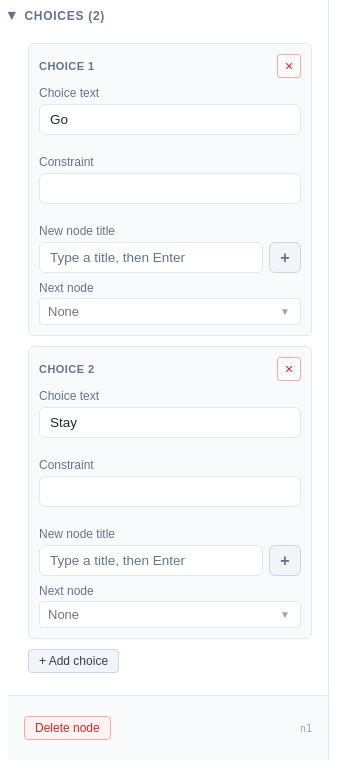
CompanionPanel — NodeComboField (next node) › New node title box › Enter creates a node with the typed title and links that choice to it
This screenshot has width=346, height=768.
(page scrolled)
Type "The Old Mill" into the 2nd field labelled "New node title" at coordinates (151, 560), box [39,545,263,576]
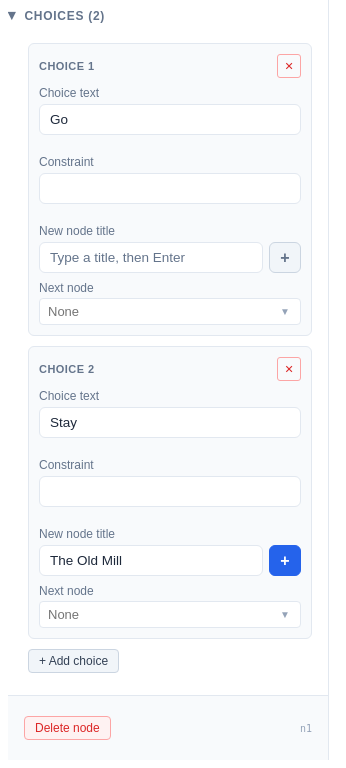
Press Enter in the 2nd field labelled "New node title", box [39,545,263,576]
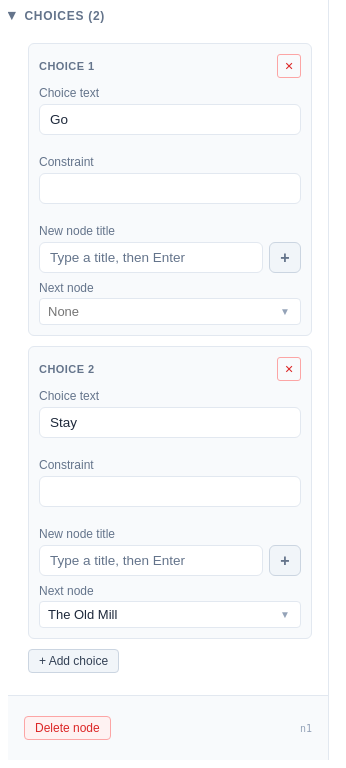
Now the 2nd field labelled "New node title" is empty, box [39,545,263,576]
Now the 2nd dropdown labelled "Next node" holds "The Old Mill", box [39,601,301,628]
